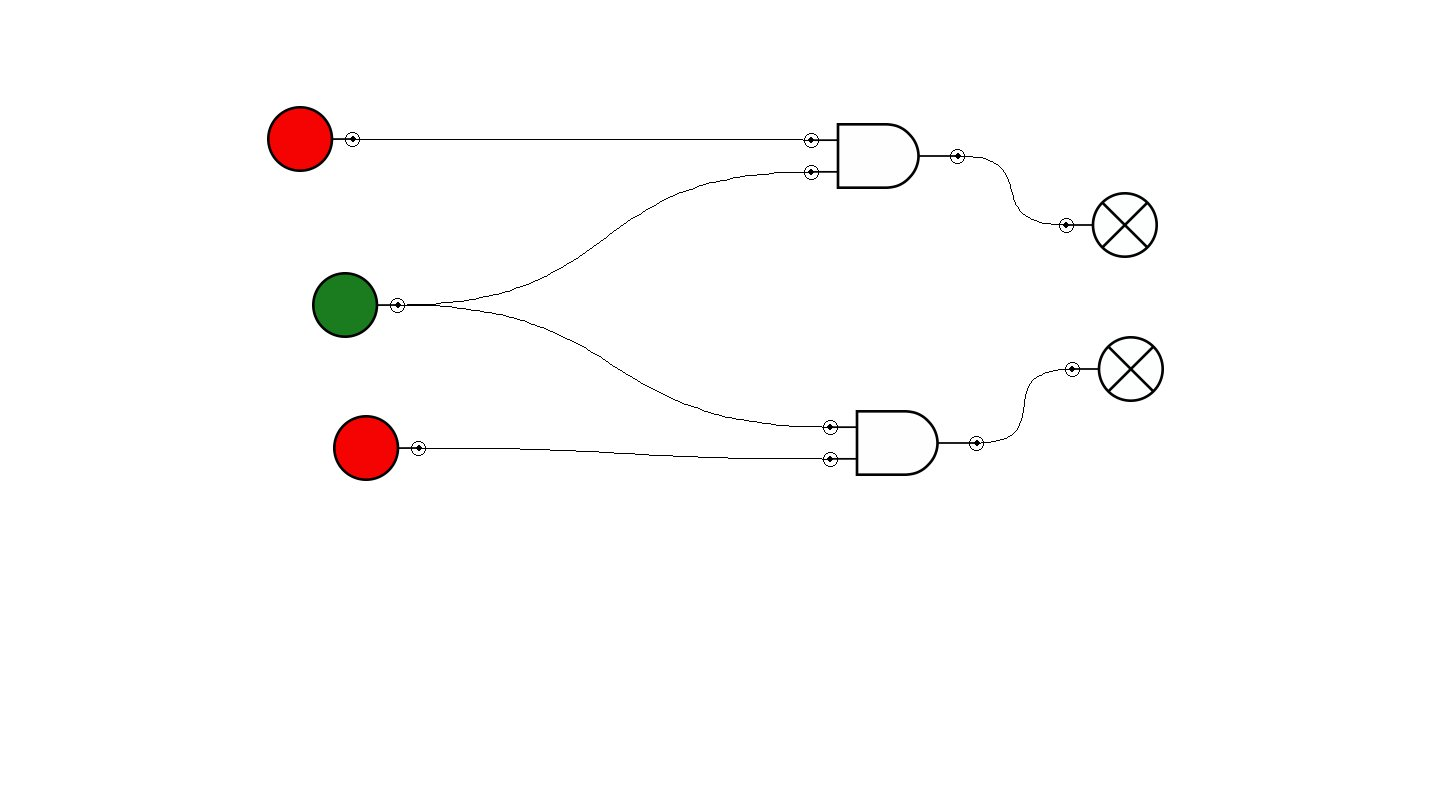and: (823, 410, 984, 476), (804, 123, 965, 189)
bulb: (1059, 192, 1158, 258), (1065, 336, 1164, 402)
switch_False: (267, 106, 360, 172), (333, 415, 426, 481)
switch_True: (312, 272, 405, 338)
